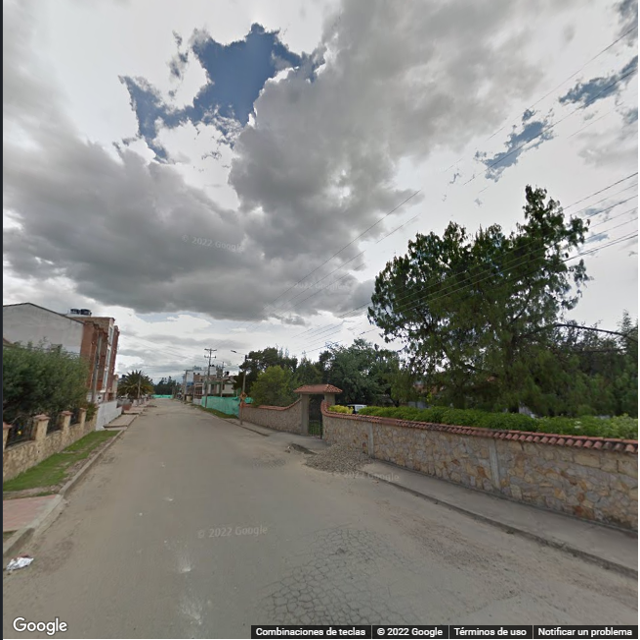D00: (523, 581, 588, 628)
D10: (444, 578, 528, 626)
D20: (267, 575, 381, 627), (308, 524, 397, 571)
